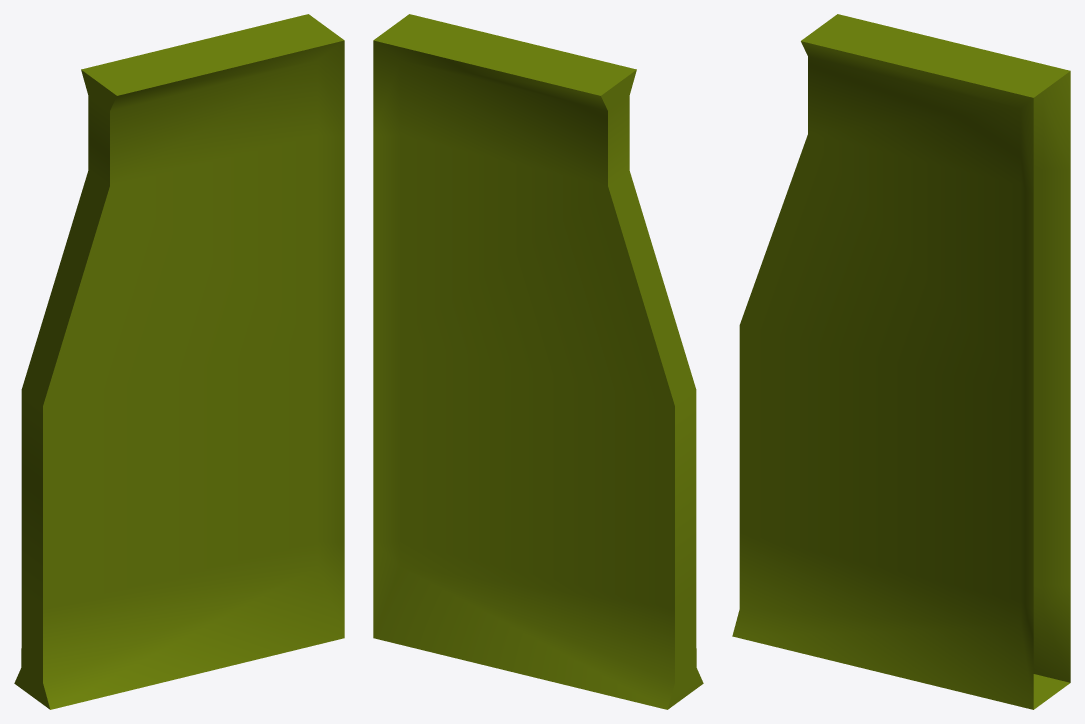
File: DoorPart1.FBX
3 views of the same model, side by side, from view 1: azimuth 30°, elevation 25°; view 2: azimuth 150°, elevation 25°; view 3: azimuth 330°, elevation 25° (orthographic). The views are drawn at different scales.
Parts seen in each view (by area): view 1: Object206; view 2: Object206; view 3: Object206.
Boxes of the visible parts, left/top/right/bottom form: Object206: left=14, top=14, right=344, bottom=709; Object206: left=373, top=14, right=703, bottom=709; Object206: left=732, top=14, right=1070, bottom=709.
Bounding box in the file's own units: 27.83 × 53.99 × 5.92.
